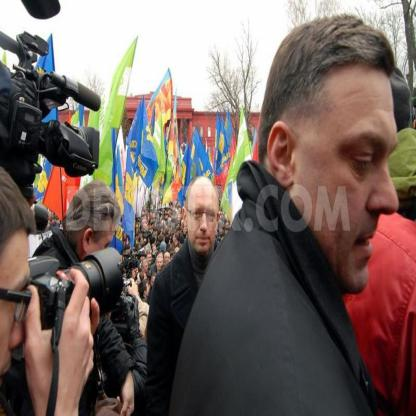face: (299, 70, 399, 293), (1, 229, 34, 399), (85, 221, 119, 279), (189, 191, 219, 252), (145, 285, 150, 297), (158, 258, 163, 270), (153, 277, 158, 287), (148, 255, 153, 264), (141, 257, 146, 266), (144, 264, 149, 273), (166, 255, 171, 264), (144, 274, 148, 283), (135, 268, 139, 276), (132, 269, 136, 277), (173, 235, 177, 242), (153, 244, 157, 251), (184, 228, 187, 235), (169, 230, 172, 237), (226, 223, 229, 230), (155, 231, 158, 237), (140, 233, 143, 239), (220, 229, 223, 235), (166, 214, 168, 219), (171, 206, 173, 211), (153, 213, 155, 218), (226, 215, 228, 220), (179, 217, 181, 221), (178, 213, 180, 217), (145, 217, 147, 221)
